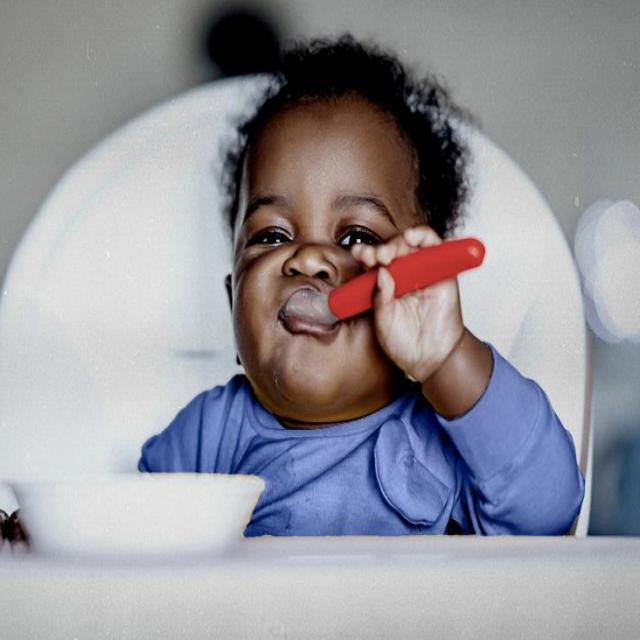child: (10, 35, 592, 541)
